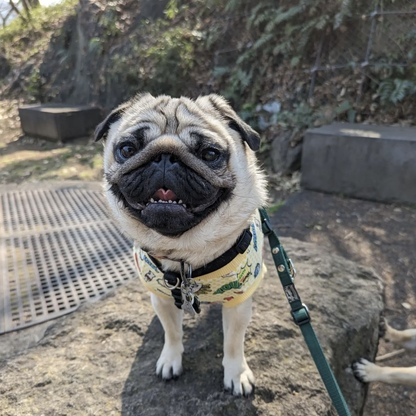Pug: (87, 86, 278, 403)
